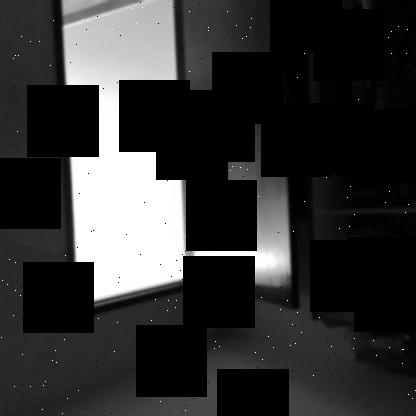Porte: (51, 1, 301, 324)
